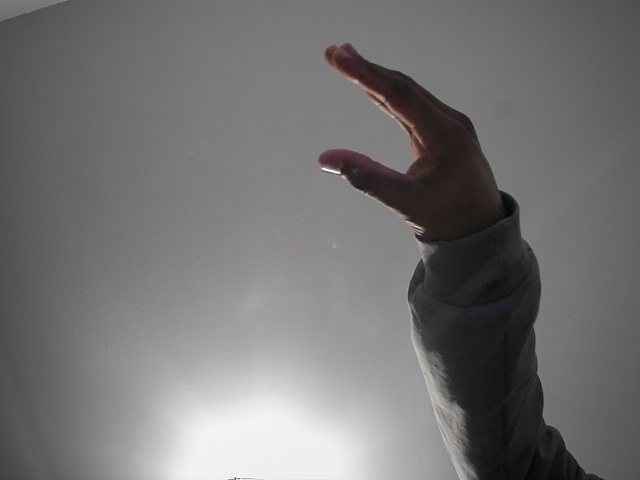No: (291, 34, 535, 241)
